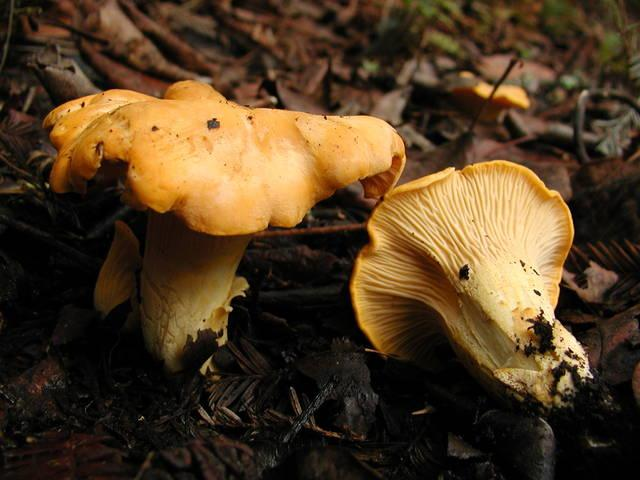Edible Mushroom: (43, 77, 406, 375), (349, 158, 596, 417)
